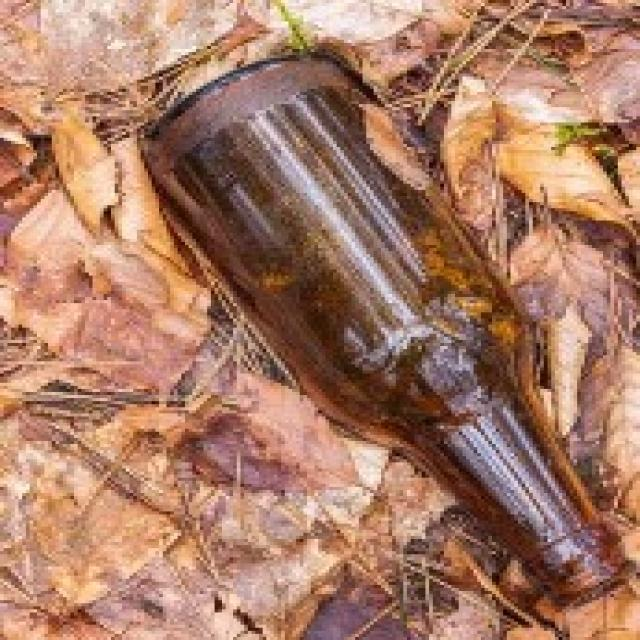electronic: (142, 46, 638, 604)
